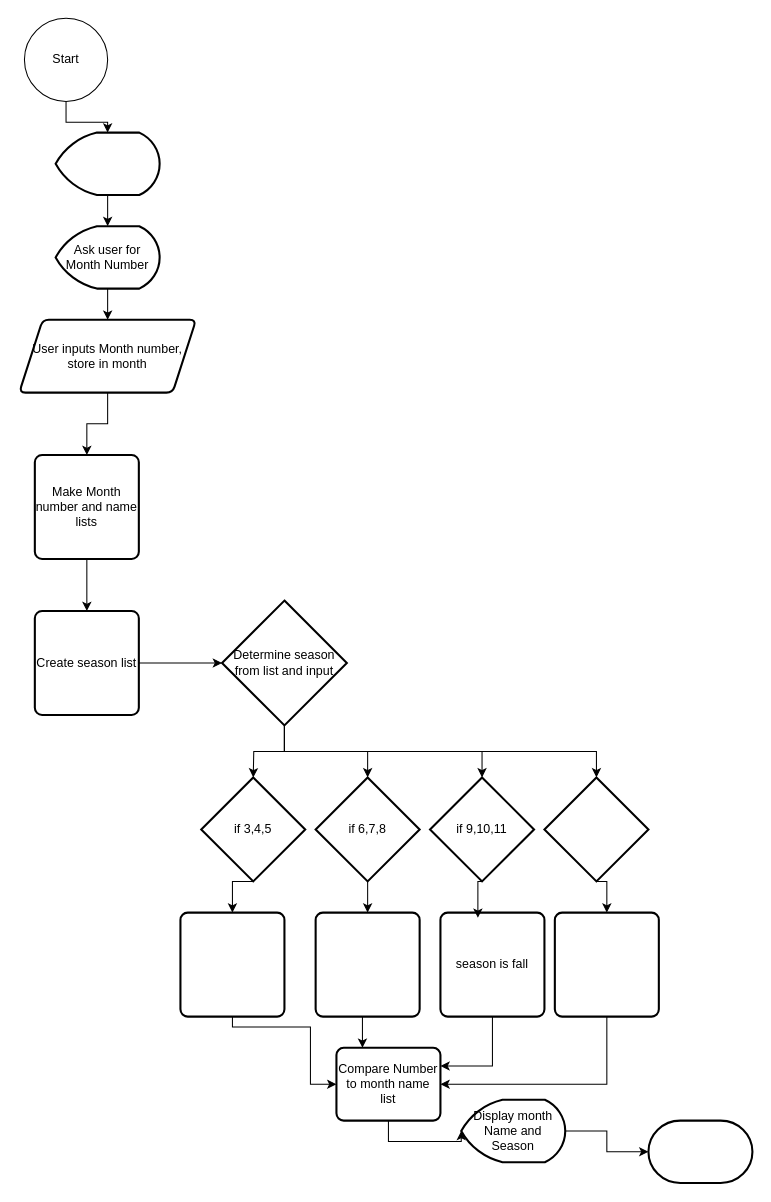
Some shapes in this 771 by 1202 pixel diagram are drawn without their labels. Each missing label, with the centre of its shape:
"Display Welcome Message" belongs at point 107,163.
"else" belongs at point 596,829.
"End" belongs at point 700,1151.
"season is spring" belongs at point 232,964.
"season is winter" belongs at point 606,964.
"Then season is summer" belongs at point 367,964.
